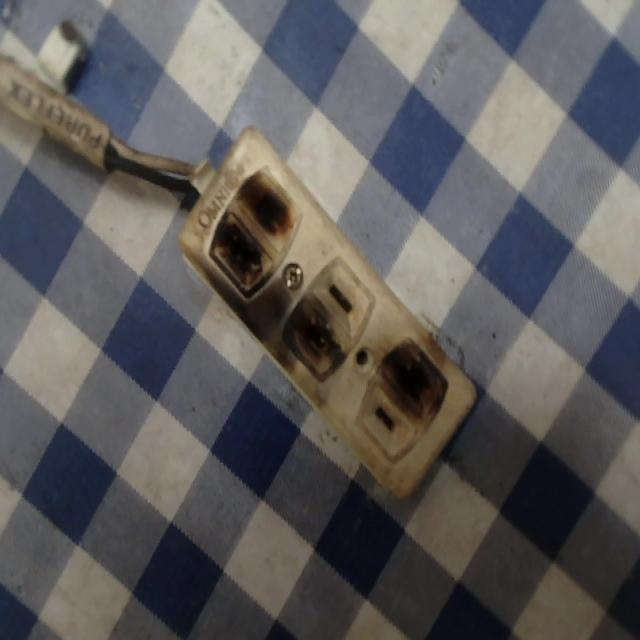-: (194, 158, 301, 294), (378, 320, 451, 435), (273, 295, 343, 388)
